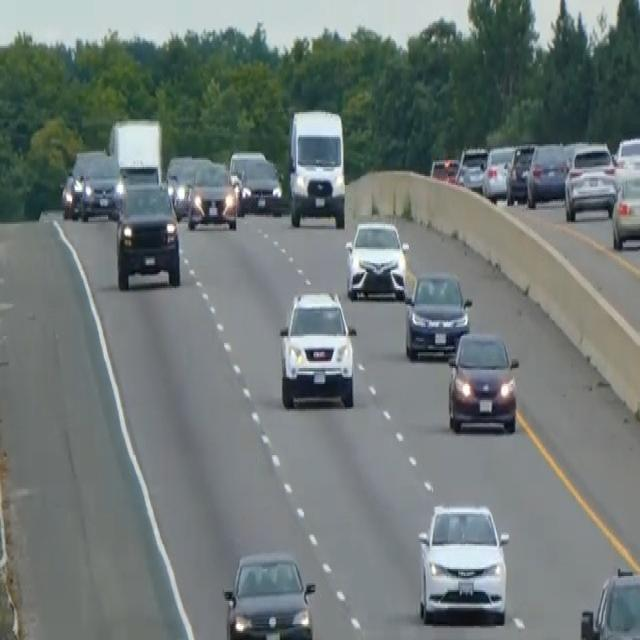car: (416, 501, 510, 626), (222, 550, 316, 638), (446, 329, 519, 434), (403, 269, 472, 359), (344, 217, 408, 300), (579, 564, 639, 638), (563, 144, 617, 220), (186, 160, 237, 231), (229, 149, 282, 215), (60, 148, 106, 218), (525, 140, 569, 208), (165, 153, 211, 217), (79, 151, 121, 221), (611, 165, 639, 249), (481, 144, 515, 201), (505, 143, 535, 205), (455, 144, 488, 192), (615, 135, 639, 173), (429, 155, 459, 183)
jeep: (276, 284, 357, 410), (113, 178, 181, 292)
minibus: (286, 106, 347, 228)
